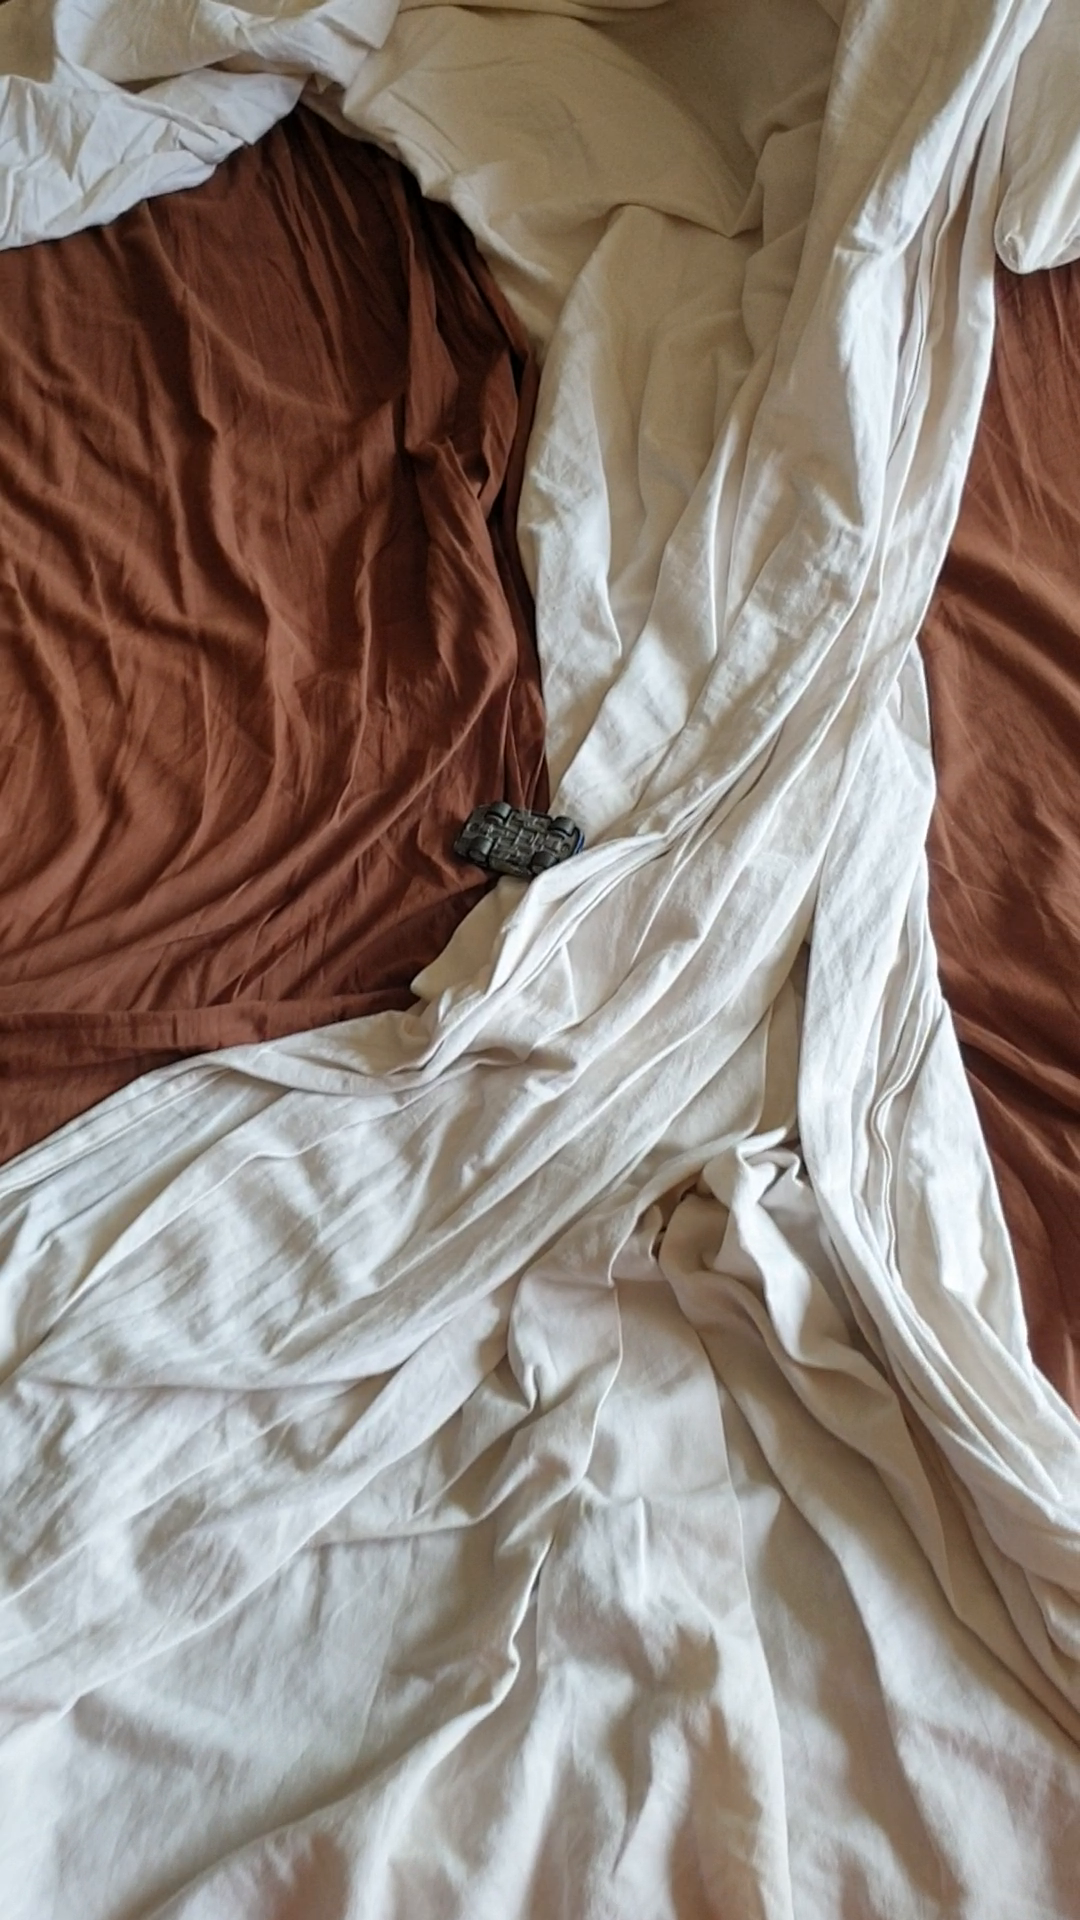cars: (454, 803, 587, 876)
